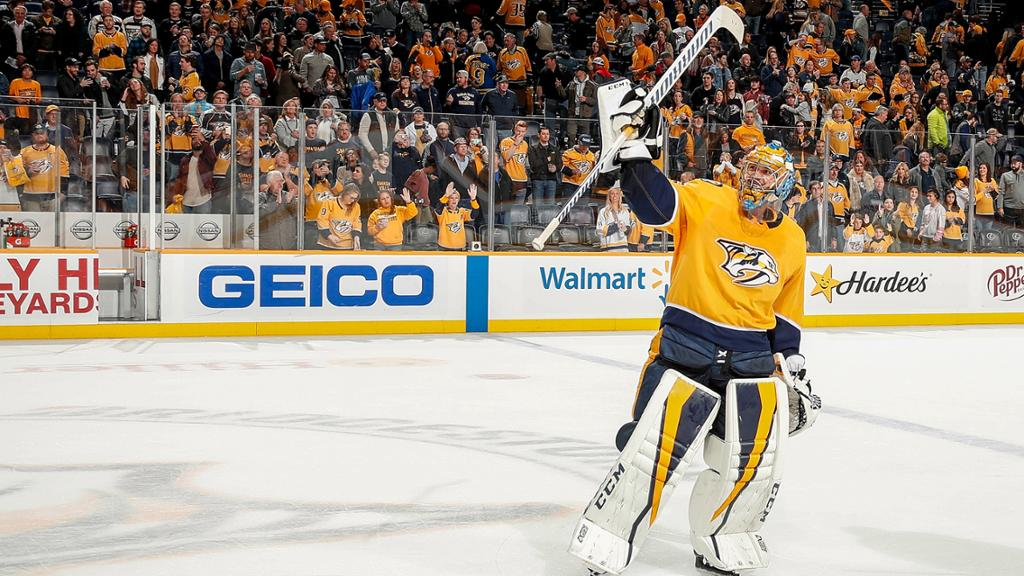geico: (192, 253, 450, 321)
